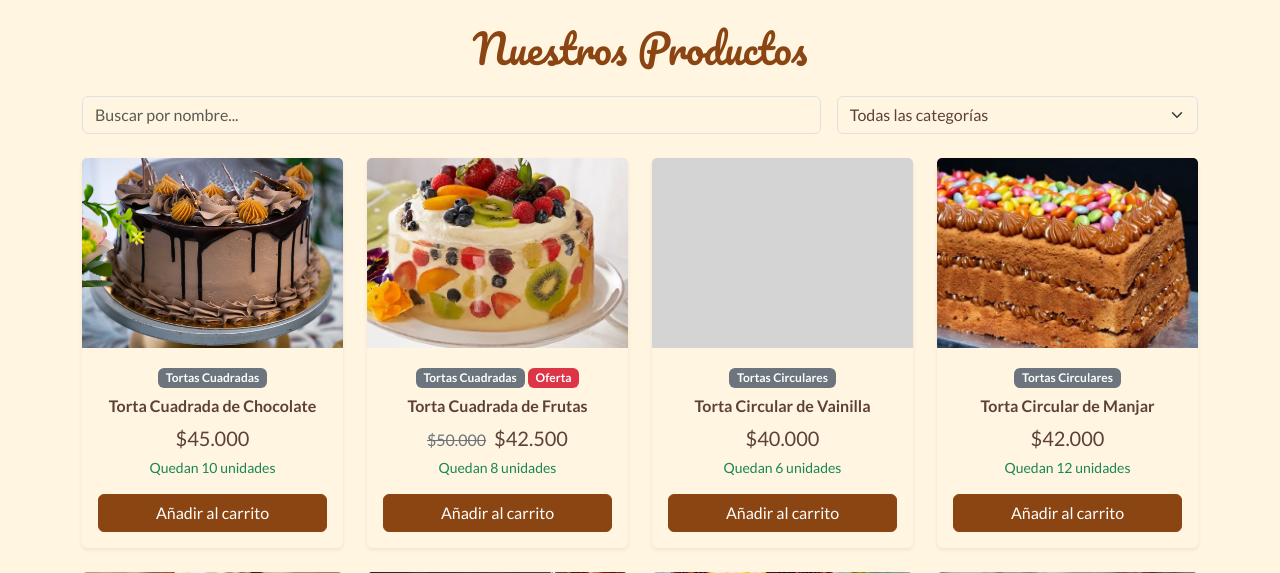
Test: <Productos /> (buscador) › al escribir en el buscador filtra el catálogo (estado)
This screenshot has width=1280, height=573.
Type "brownie" into the search field named "Buscar productos". click: (451, 115)
box: x1=82 y1=96 x2=821 y2=134
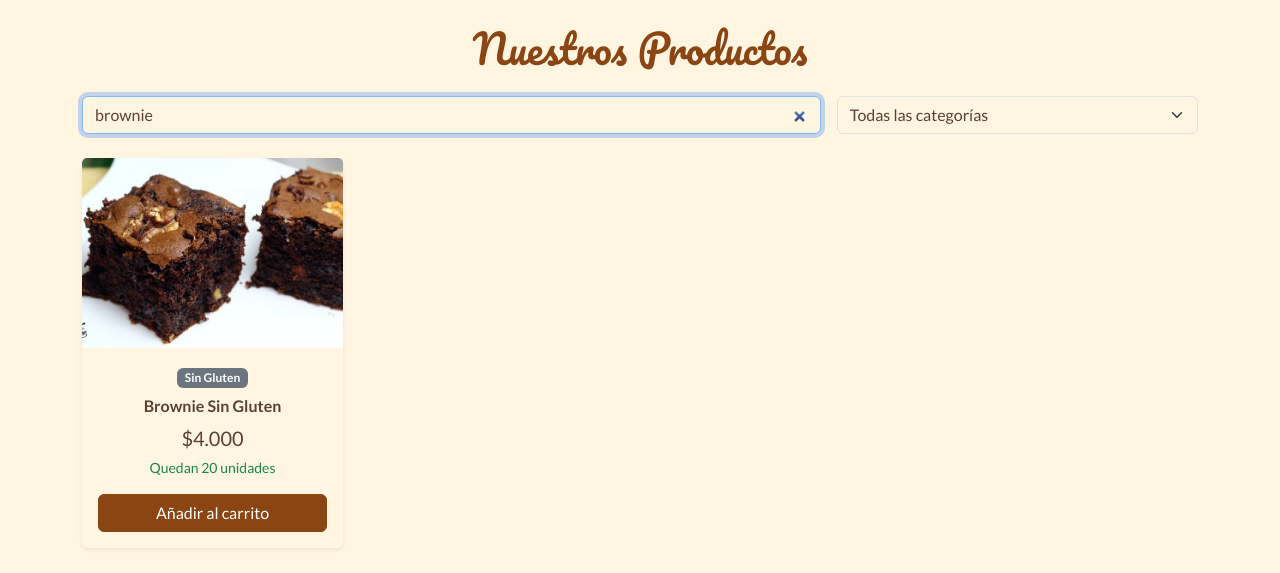
Check: the link "Brownie Sin Gluten" is shown, box x1=144 y1=396 x2=281 y2=415
Check: the number of buttons "Añadir al carrito" is 1, box x1=98 y1=494 x2=327 y2=532
